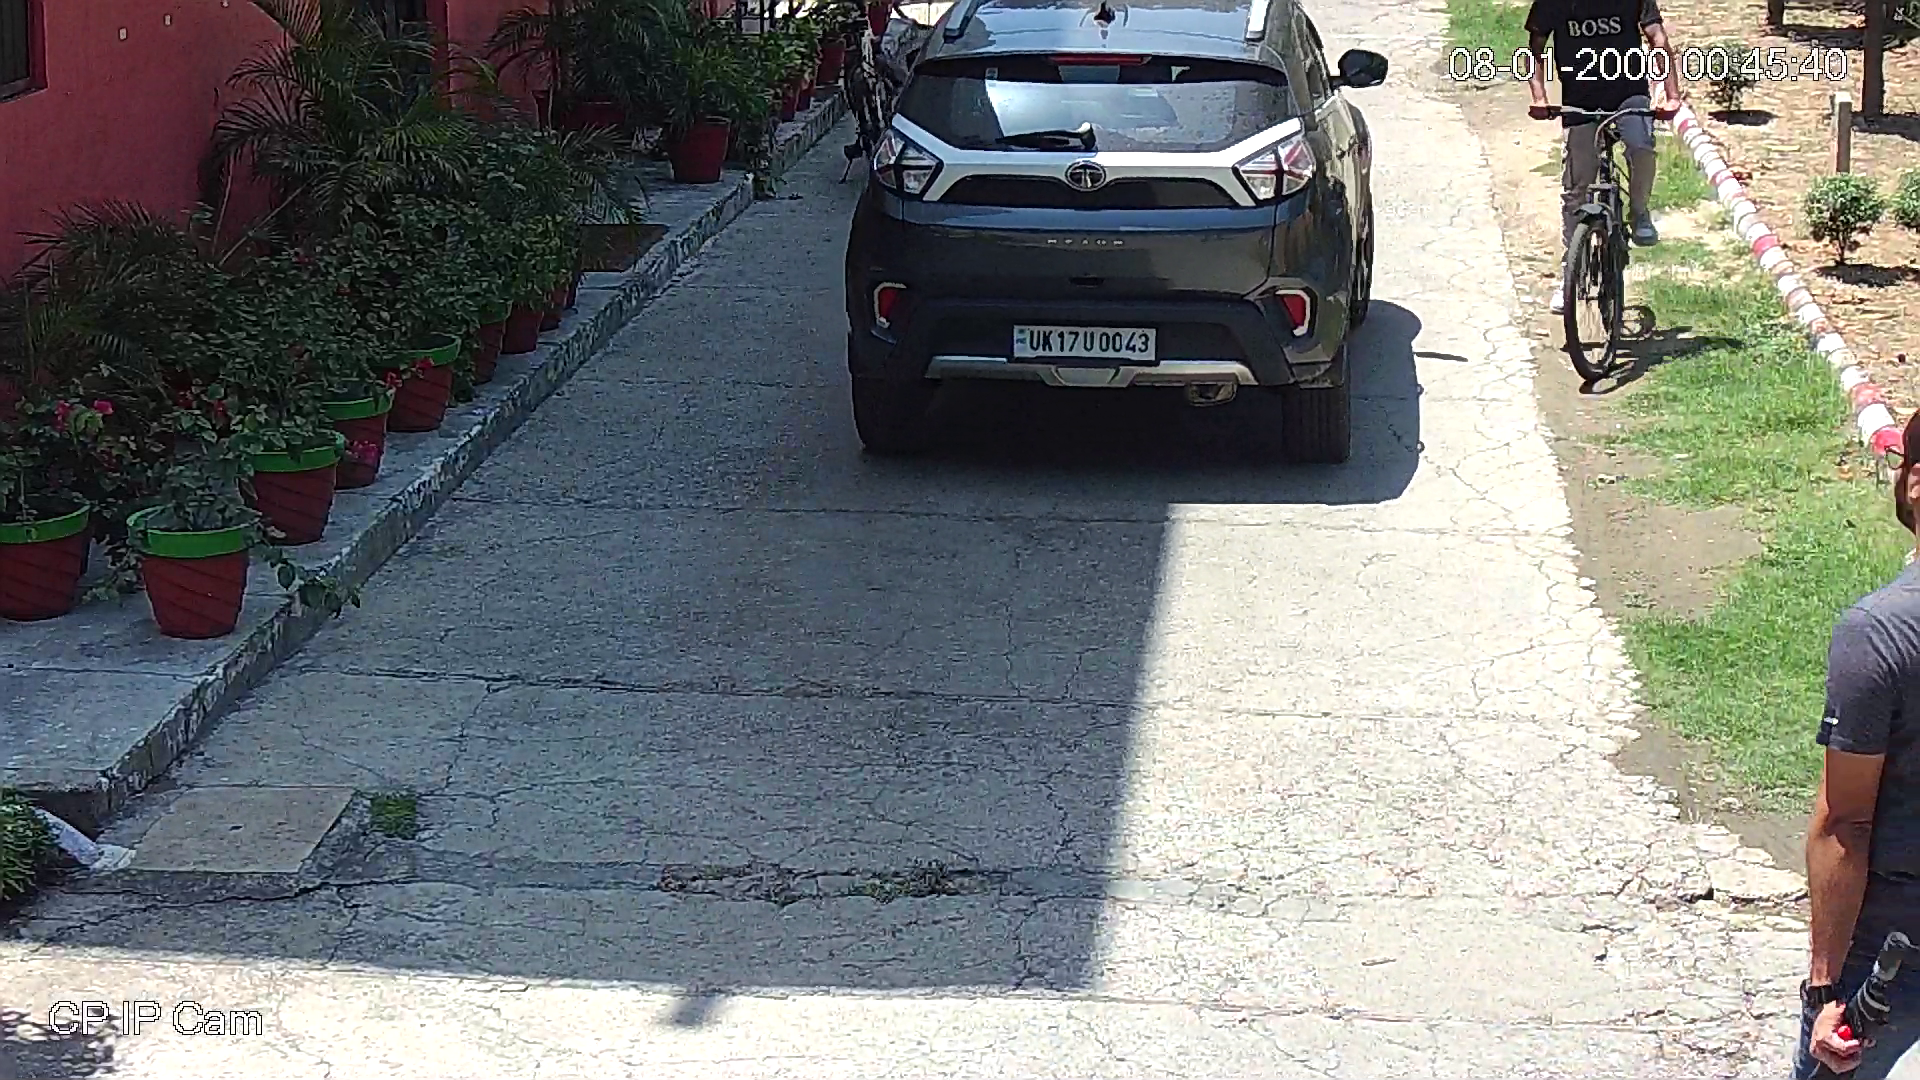plate: (1007, 319, 1166, 366)
